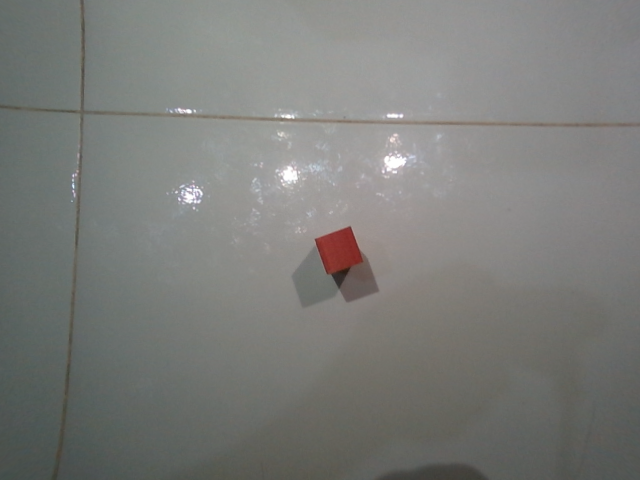Balok-Merah: (316, 226, 371, 280)
